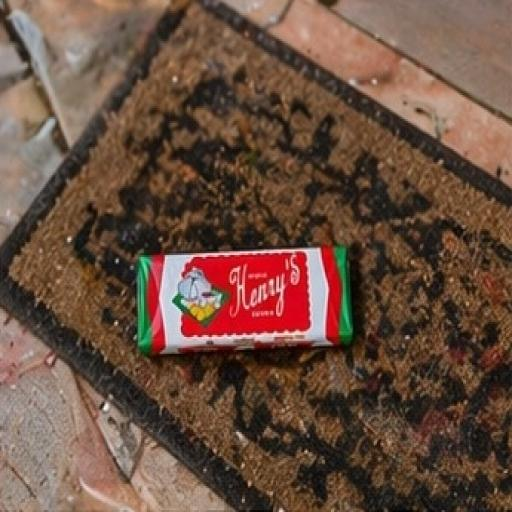henry-s: (88, 182, 419, 424)
